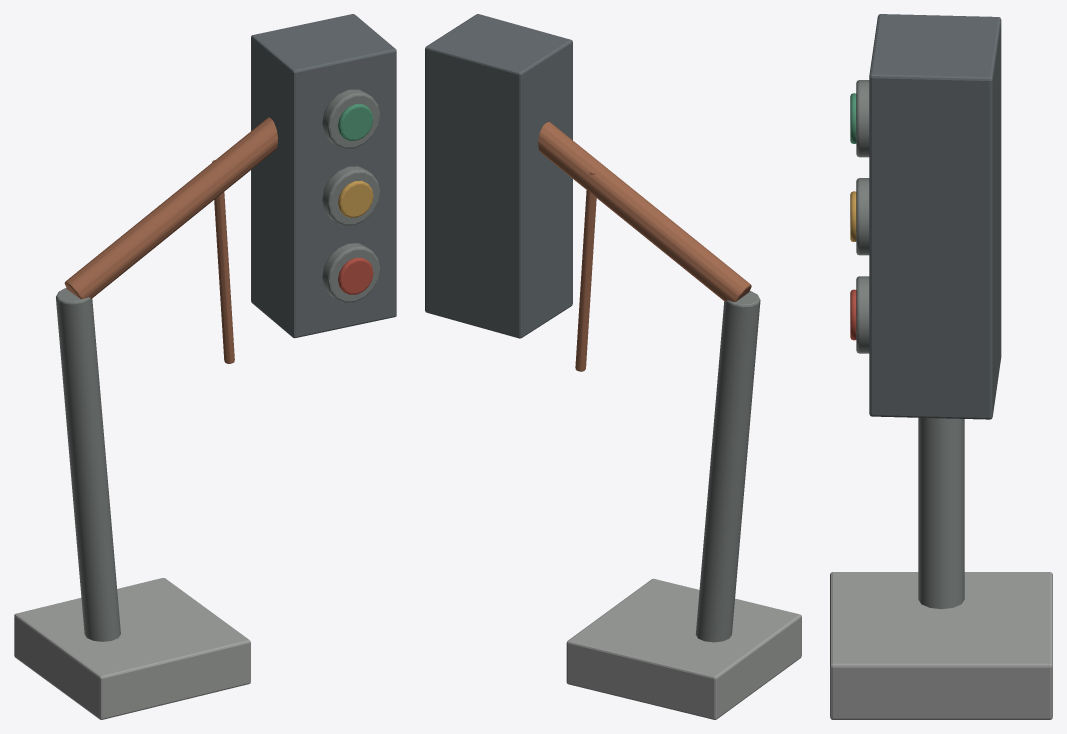
Rendered from Apoc_Prop_Downed_Traffic_Light.fbx.
3 views of the same model, side by side, from view 1: azimuth 30°, elevation 25°; view 2: azimuth 150°, elevation 25°; view 3: azimuth 270°, elevation 25° (orthographic). The views are drawn at different scales.
Visible parts, largest first — view 1: Apoc_Prop_Downed_Traffic_Light; view 2: Apoc_Prop_Downed_Traffic_Light; view 3: Apoc_Prop_Downed_Traffic_Light.
Part boxes in pixels (x1,y1,x2,y2): Apoc_Prop_Downed_Traffic_Light: (14,14,396,719); Apoc_Prop_Downed_Traffic_Light: (425,14,801,719); Apoc_Prop_Downed_Traffic_Light: (830,14,1052,719).
Size of the model in its own units: 1.51 by 2.66 by 0.72.
